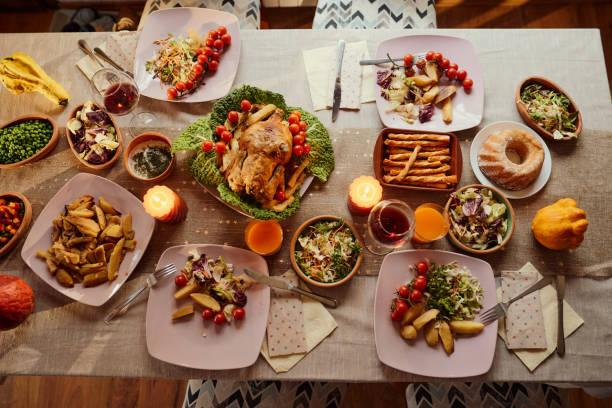Braised Crucian Carp: (19, 172, 155, 305), (371, 249, 499, 377), (186, 95, 317, 220), (144, 242, 270, 369), (372, 34, 482, 133), (132, 5, 240, 104)
